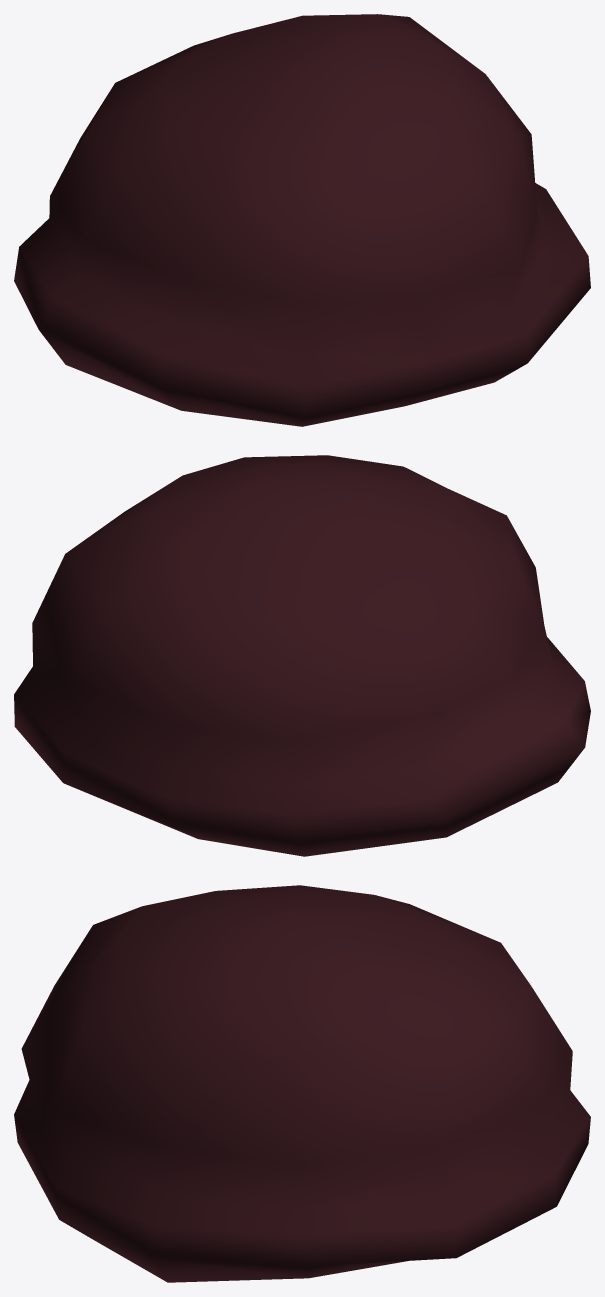
Rendered from 빙수팥소(엔딩).fbx.
3 renders of one model, top to bottom at view 1: azimuth 30°, elevation 25°; view 2: azimuth 150°, elevation 25°; view 3: azimuth 270°, elevation 25°, orthographic. The views are drawn at different scales.
Parts seen in each view (by area): view 1: Circle.003; view 2: Circle.003; view 3: Circle.003.
Part boxes in pixels (x1,y1,x2,y2): Circle.003: (14,14,590,426); Circle.003: (14,455,590,856); Circle.003: (14,885,590,1282).
Bounding box in the file's own units: 594 × 304 × 549.
